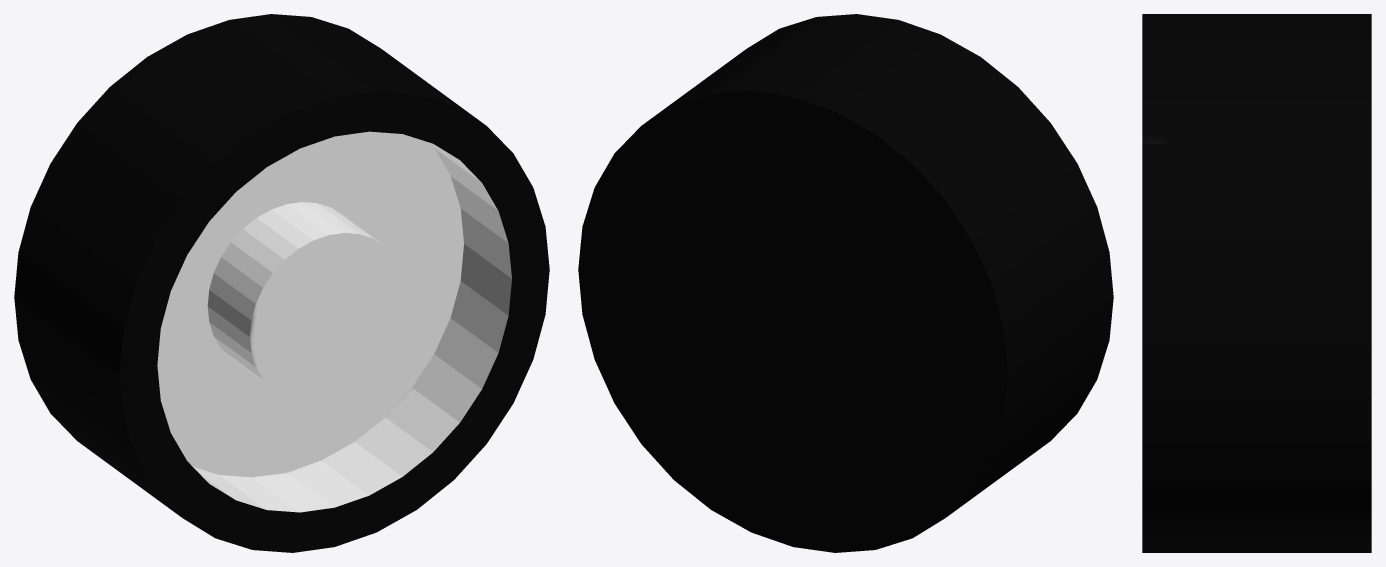
The model's file is wheel.glb.
3 renders of one model, left to right at view 1: azimuth 30°, elevation 25°; view 2: azimuth 150°, elevation 25°; view 3: azimuth 270°, elevation 25°, orthographic. The views are drawn at different scales.
Parts seen in each view (by area): view 1: wheel; view 2: wheel; view 3: wheel.
Boxes of the visible parts, left/top/right/bottom form: wheel: left=14, top=14, right=549, bottom=552; wheel: left=578, top=14, right=1113, bottom=552; wheel: left=1142, top=14, right=1371, bottom=552.
Bounding box in the file's own units: 2 × 2 × 0.8495.
1 material, 1 textured.
